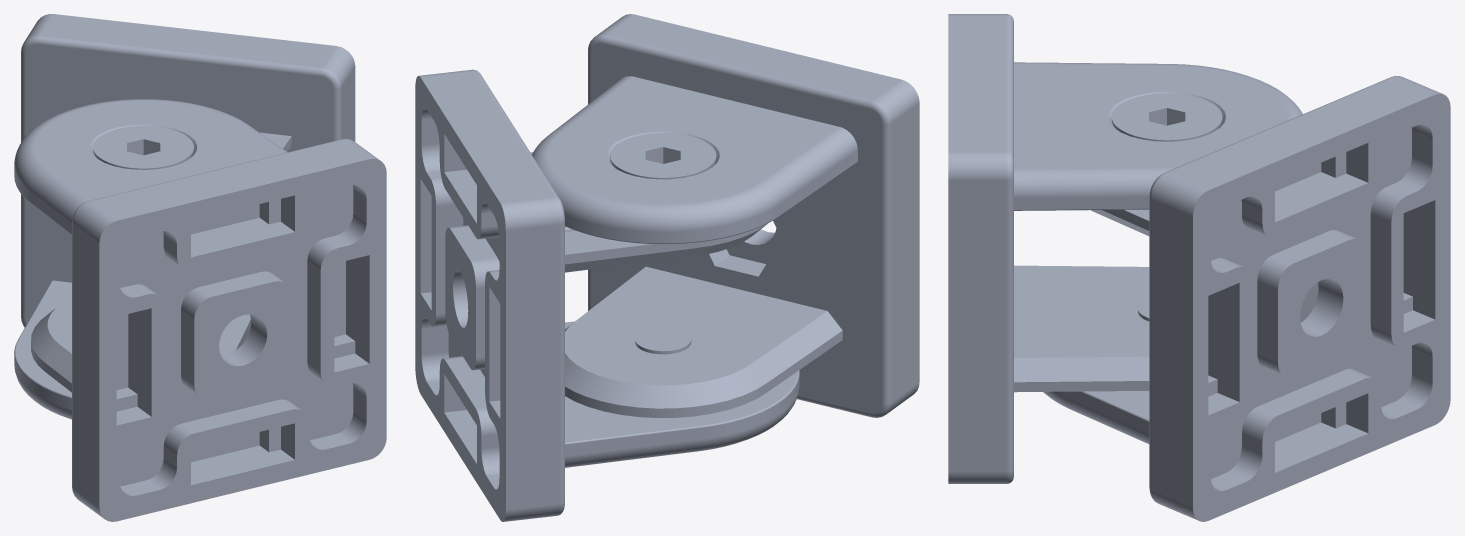
The model's file is D3_Gelenkverbinder.glb.
The picture shows the model from 3 angles, left to right: view 1: azimuth 30°, elevation 25°; view 2: azimuth 150°, elevation 25°; view 3: azimuth 270°, elevation 25°; orthographic projection. The views are drawn at different scales.
Visible parts, largest first — view 1: cast aluminum, cast aluminum-3; view 2: cast aluminum, cast aluminum-3; view 3: cast aluminum, cast aluminum-3.
Part boxes in pixels (x1,y1,x2,y2): cast aluminum: (14,14,386,521); cast aluminum-3: (93,126,193,169); cast aluminum: (415,14,919,521); cast aluminum-3: (610,133,716,354); cast aluminum: (948,14,1450,521); cast aluminum-3: (1111,93,1222,321).
Size of the model in its own units: 0.0639 by 0.051 by 0.0689.
